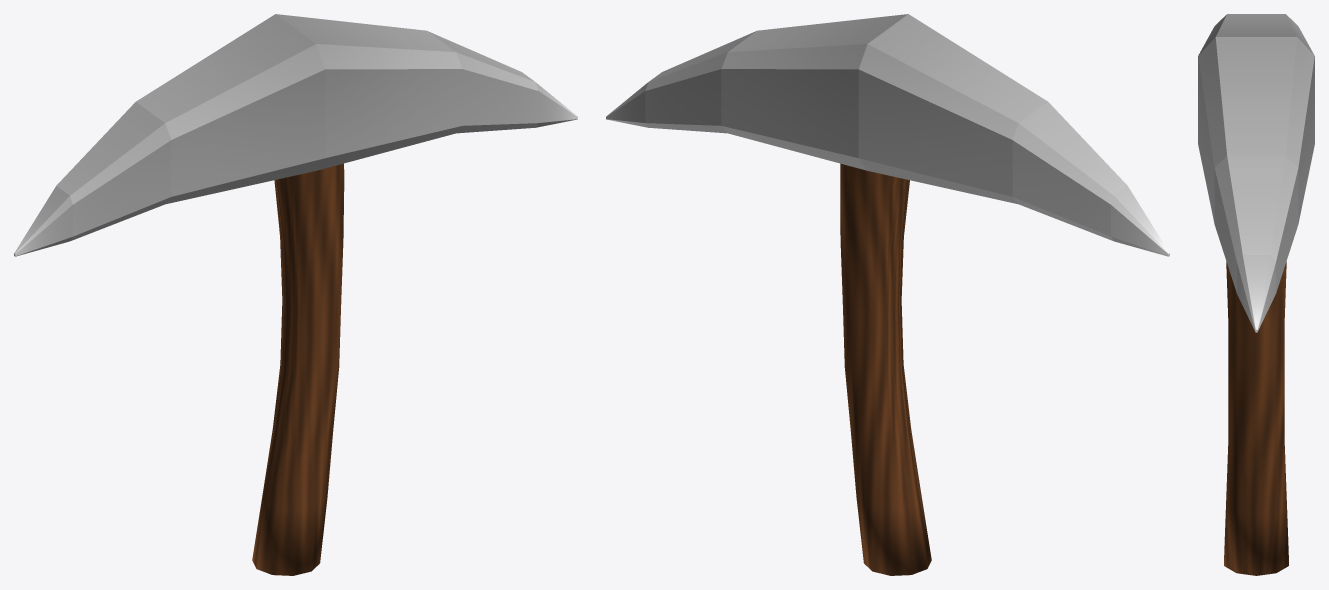
Rendered from pickaxe.glb.
3 views of the same model, side by side, from view 1: azimuth 30°, elevation 25°; view 2: azimuth 150°, elevation 25°; view 3: azimuth 270°, elevation 25° (orthographic).
Visible parts, largest first — view 1: PickaxeHead, RecoveredHandle; view 2: PickaxeHead, RecoveredHandle; view 3: PickaxeHead, RecoveredHandle.
Boxes of the visible parts, <box> form: PickaxeHead: <box>14,14,577,256</box>; RecoveredHandle: <box>252,163,344,575</box>; PickaxeHead: <box>606,14,1169,256</box>; RecoveredHandle: <box>840,163,931,575</box>; PickaxeHead: <box>1198,14,1314,332</box>; RecoveredHandle: <box>1224,262,1288,575</box>.
Bounding box in the file's own units: 1.56 × 1.41 × 0.2809.
2 materials, 2 textured.
